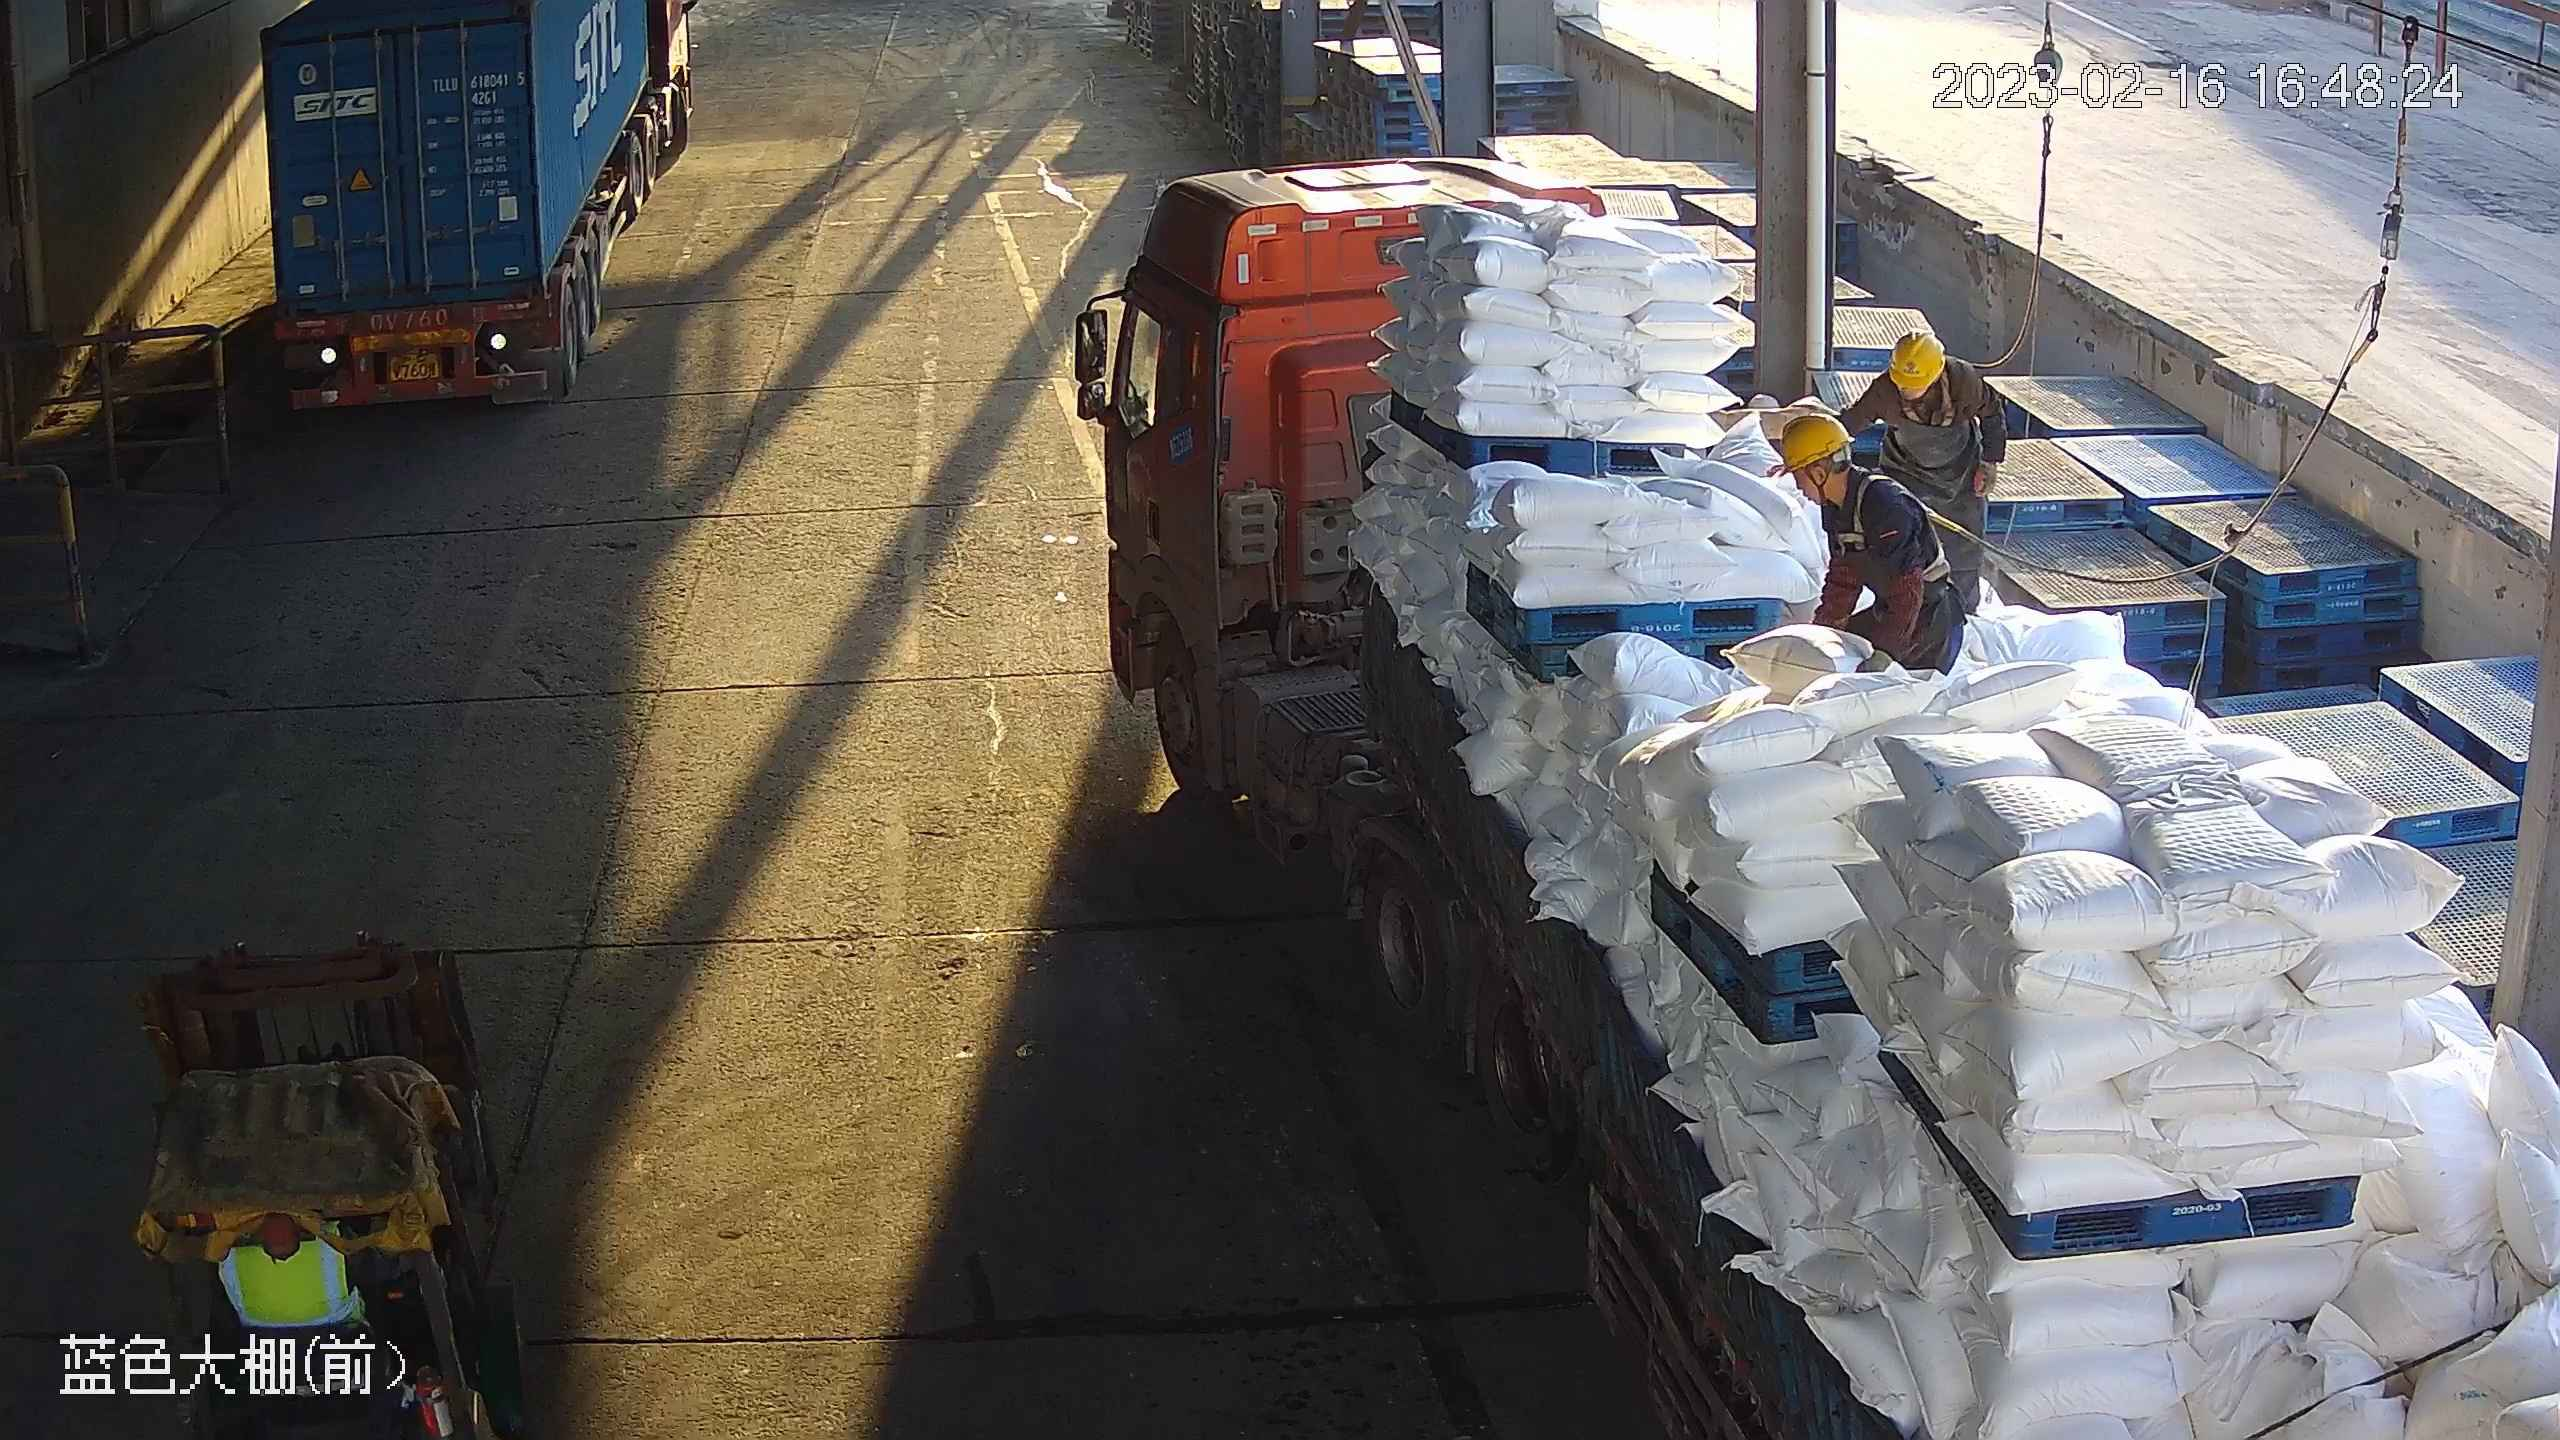belt: (1823, 473, 1955, 583), (1897, 370, 1954, 426)
head: (1776, 414, 1911, 519), (1866, 329, 1990, 415)
helmet: (1778, 414, 1857, 474), (1887, 330, 1945, 387)
people: (1777, 413, 1970, 673), (1832, 330, 2007, 616)
truck: (1070, 157, 2560, 1440), (258, 1, 692, 417)
